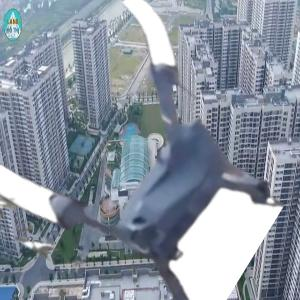drone: (3, 8, 294, 299)
